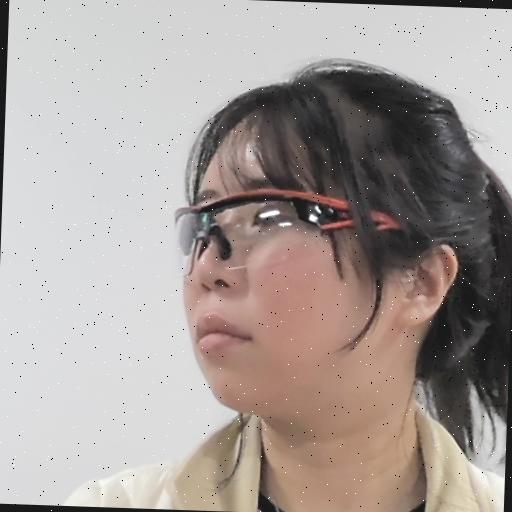glasses: (159, 50, 512, 465)
